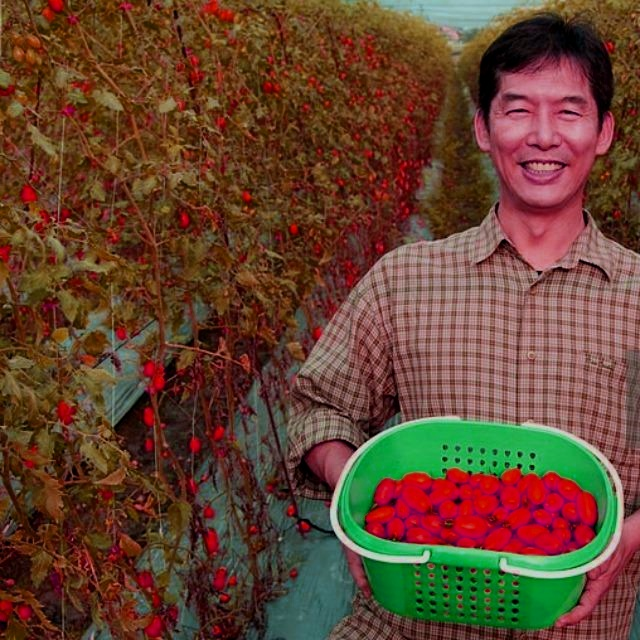Sin_Casco_Mascarrilla: (474, 12, 618, 208)
Sin_Chaleco: (388, 214, 638, 483)
